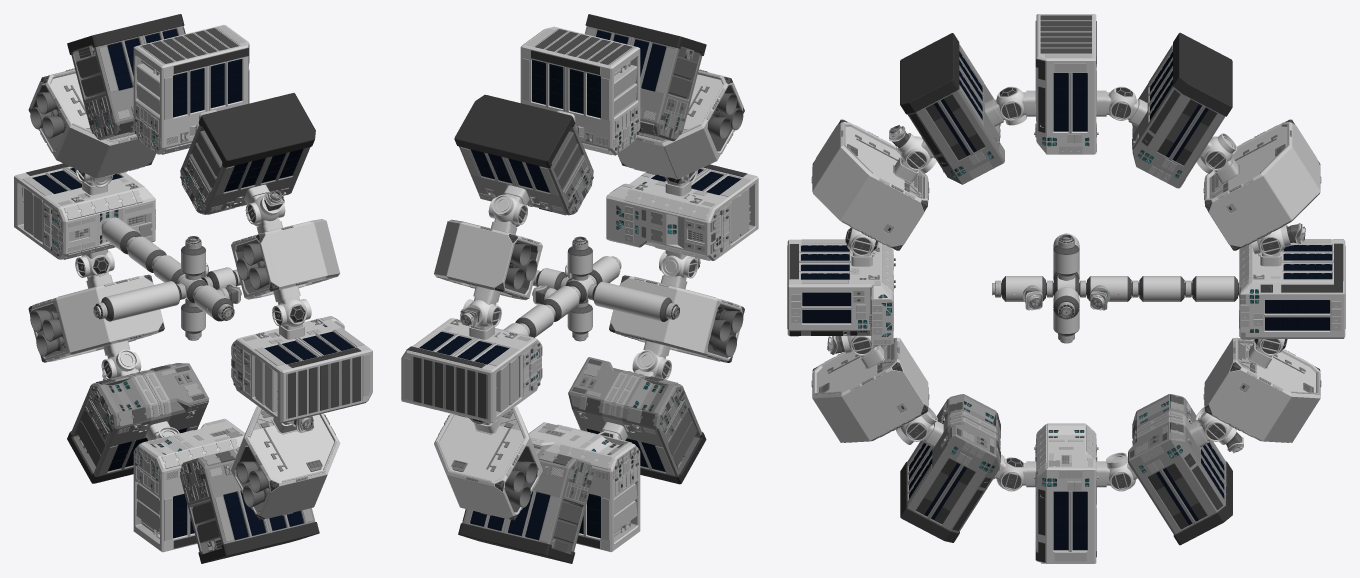
The model's file is endurance.glb.
The picture shows the model from 3 angles, left to right: view 1: azimuth 30°, elevation 25°; view 2: azimuth 150°, elevation 25°; view 3: azimuth 270°, elevation 25°; orthographic projection. The views are drawn at different scales.
Visible parts, largest first — view 1: Pod.001, Lab, Command, Pod.003, Habitation, Engine.002, DockingHub, Pod.002, Habitation.001, Pod, Engine, Engine.001 (+7 smaller); view 2: Pod, Lab, Habitation, Command, Pod.002, Engine.001, Pod.003, Habitation.001, DockingHub, Pod.001, Engine.003, Engine.002 (+7 smaller); view 3: Pod, Pod.003, Pod.001, Pod.002, Command, Habitation, Engine, Engine.003, Lab, Habitation.001, Engine.001, Engine.002 (+13 smaller).
Part boxes in pixels (left/top/right/bottom): Pod.001: left=180, top=93, right=315, bottom=214; Lab: left=133, top=25, right=249, bottom=154; Command: left=231, top=316, right=372, bottom=423; Pod.003: left=67, top=363, right=209, bottom=483; Habitation: left=14, top=163, right=155, bottom=259; Engine.002: left=231, top=406, right=340, bottom=520; DockingHub: left=95, top=217, right=240, bottom=338; Pod.002: left=180, top=447, right=319, bottom=563; Habitation.001: left=133, top=418, right=245, bottom=552; Pod: left=67, top=14, right=185, bottom=140; Engine: left=28, top=68, right=156, bottom=178; Engine.001: left=28, top=274, right=164, bottom=362; Pod: left=454, top=94, right=593, bottom=215; Lab: left=520, top=26, right=640, bottom=155; Habitation: left=401, top=318, right=542, bottom=423; Command: left=606, top=164, right=758, bottom=260; Pod.002: left=568, top=357, right=706, bottom=484; Engine.001: left=434, top=406, right=542, bottom=520; Pod.003: left=458, top=448, right=593, bottom=563; Habitation.001: left=528, top=422, right=640, bottom=551; DockingHub: left=503, top=239, right=678, bottom=339; Pod.001: left=584, top=14, right=706, bottom=141; Engine.003: left=617, top=69, right=744, bottom=179; Engine.002: left=609, top=275, right=744, bottom=362; Pod: left=1132, top=32, right=1232, bottom=188; Pod.003: left=1128, top=394, right=1232, bottom=545; Pod.001: left=900, top=33, right=1004, bottom=184; Pod.002: left=900, top=394, right=1000, bottom=542; Command: left=787, top=239, right=895, bottom=345; Habitation: left=1239, top=239, right=1345, bottom=339; Engine: left=1203, top=119, right=1321, bottom=250; Engine.003: left=811, top=119, right=929, bottom=250; Lab: left=1034, top=14, right=1098, bottom=154; Habitation.001: left=1034, top=423, right=1098, bottom=563; Engine.001: left=1203, top=337, right=1321, bottom=442; Engine.002: left=811, top=337, right=929, bottom=442.
Size of the model in its own units: 29.1 by 87.36 by 87.36.
12 materials, 12 textured.
